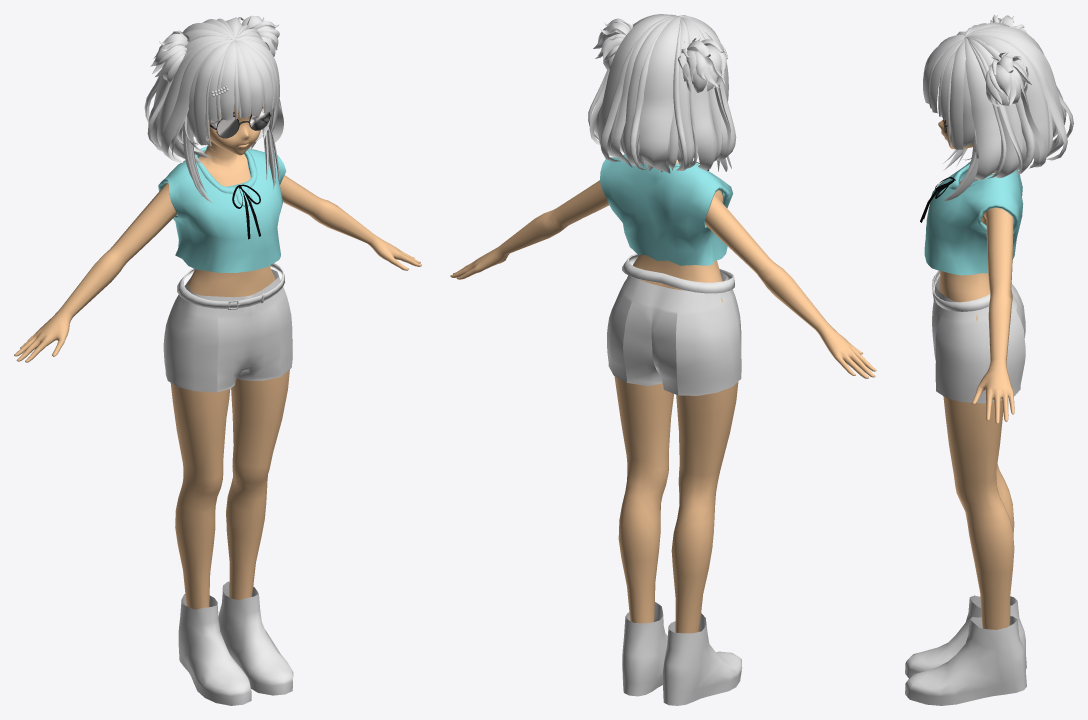
The picture shows the model from 3 angles, left to right: view 1: azimuth 30°, elevation 25°; view 2: azimuth 150°, elevation 25°; view 3: azimuth 270°, elevation 25°; orthographic projection. The views are drawn at different scales.
Visible parts, largest first — view 1: Character_Preview_1.001_2, Body.017_12, Body.302_15, ADORNO POLERA CUELLO_14, Body.005_21, Body.524_18, Body.124_16, Body.267_13; view 2: Character_Preview_1.001_2, Body.017_12, Body.302_15, ADORNO POLERA CUELLO_14, Body.005_21, Body.524_18, Body.124_16; view 3: Body.017_12, Character_Preview_1.001_2, ADORNO POLERA CUELLO_14, Body.524_18, Body.302_15, Body.005_21, Body.124_16.
Boxes of the visible parts, bbox=[...] form: Character_Preview_1.001_2: bbox=[14, 102, 421, 609]; Body.017_12: bbox=[144, 15, 283, 203]; Body.302_15: bbox=[163, 269, 292, 392]; ADORNO POLERA CUELLO_14: bbox=[158, 146, 286, 272]; Body.005_21: bbox=[178, 594, 251, 705]; Body.524_18: bbox=[218, 581, 293, 695]; Body.124_16: bbox=[177, 263, 284, 309]; Body.267_13: bbox=[209, 107, 271, 138]; Character_Preview_1.001_2: bbox=[450, 160, 876, 633]; Body.017_12: bbox=[588, 14, 736, 173]; Body.302_15: bbox=[607, 259, 741, 395]; ADORNO POLERA CUELLO_14: bbox=[600, 154, 733, 265]; Body.005_21: bbox=[662, 613, 742, 705]; Body.524_18: bbox=[622, 602, 667, 696]; Body.124_16: bbox=[622, 254, 734, 293]; Body.017_12: bbox=[923, 14, 1073, 201]; Character_Preview_1.001_2: bbox=[938, 119, 1014, 629]; ADORNO POLERA CUELLO_14: bbox=[924, 161, 1023, 275]; Body.524_18: bbox=[905, 616, 1026, 705]; Body.302_15: bbox=[932, 276, 1025, 403]; Body.005_21: bbox=[905, 595, 1026, 678]; Body.124_16: bbox=[932, 270, 990, 311].
Bounding box in the file's own units: 1.54 × 2.35 × 0.5482.
Materials: 16 (1 with a texture image).
